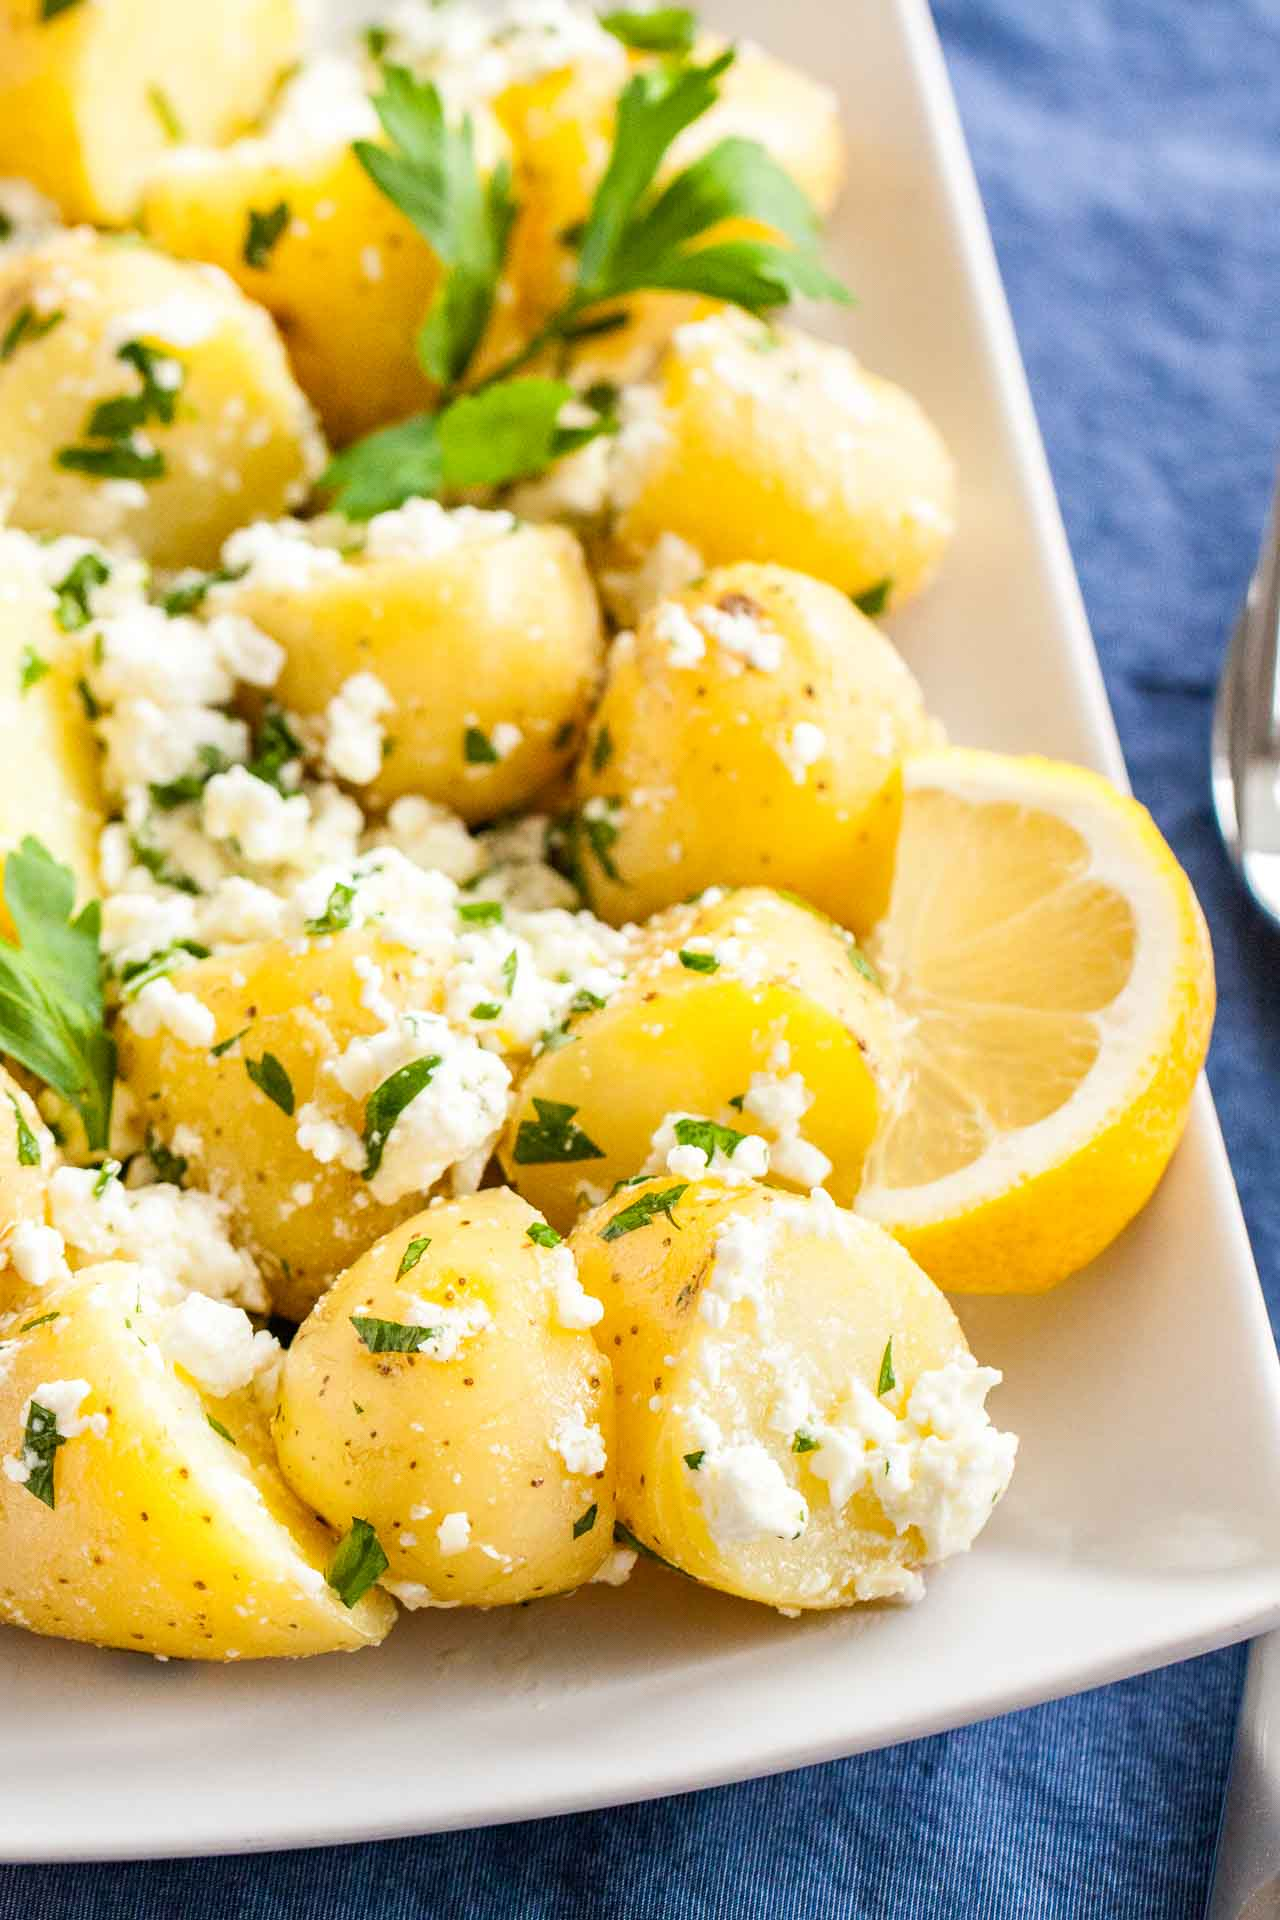boiled potatoes: (560, 1169, 974, 1590), (13, 1263, 401, 1669), (301, 1206, 619, 1604), (571, 579, 919, 927), (7, 243, 359, 576), (226, 529, 603, 799), (521, 920, 891, 1191), (589, 307, 931, 594), (160, 933, 481, 1231), (517, 44, 831, 304)
